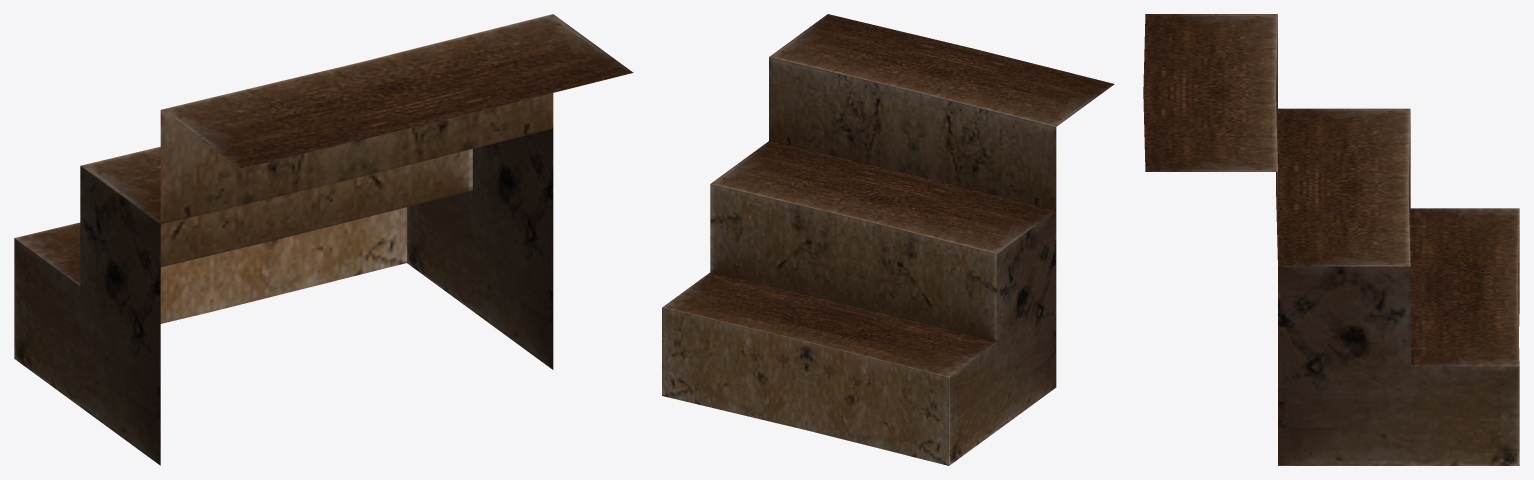
File: stairs.fbx
The picture shows the model from 3 angles, left to right: view 1: azimuth 30°, elevation 25°; view 2: azimuth 150°, elevation 25°; view 3: azimuth 270°, elevation 25°; orthographic projection. The views are drawn at different scales.
Parts seen in each view (by area): view 1: Cube.002; view 2: Cube.002; view 3: Cube.002.
Part boxes in pixels (box(x1,y1,x2,y2)): Cube.002: box(14, 14, 633, 465); Cube.002: box(662, 14, 1114, 465); Cube.002: box(1143, 14, 1519, 465).
Size of the model in its own units: 231 by 200 by 232.
